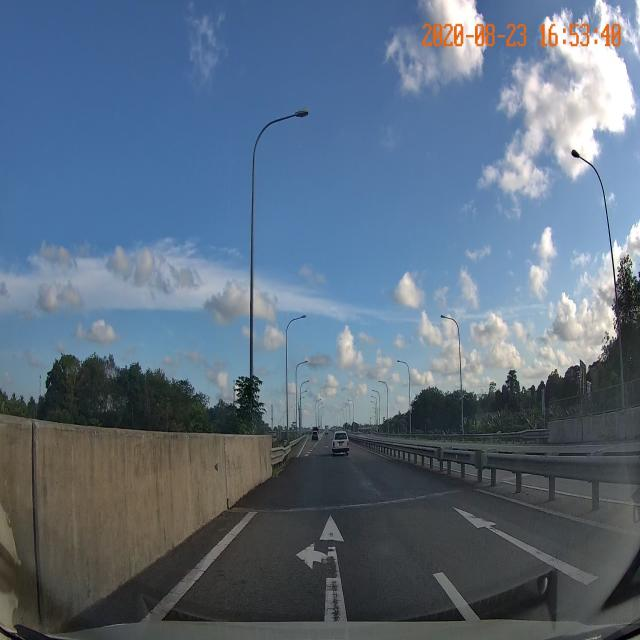forward_lft: (140, 507, 486, 626), (152, 530, 469, 604), (192, 516, 447, 566)
